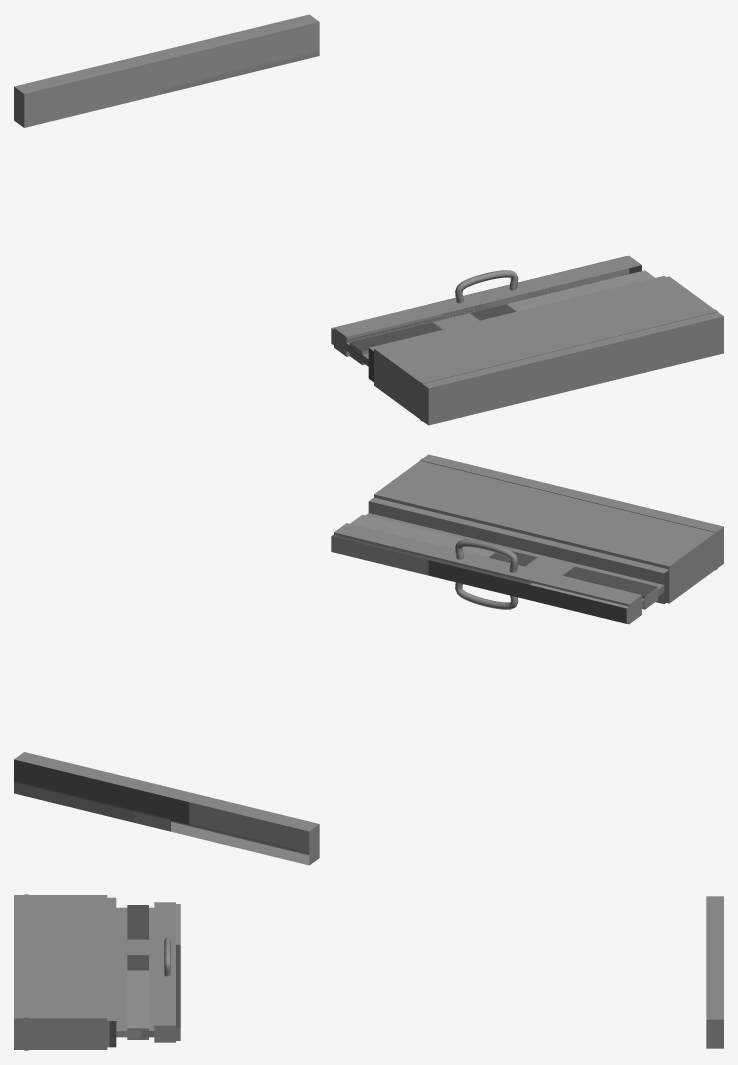
3 views of the same model, one above another, from view 1: azimuth 30°, elevation 25°; view 2: azimuth 150°, elevation 25°; view 3: azimuth 270°, elevation 25° (orthographic). The views are drawn at different scales.
Bounding box in the file's own units: 1 × 0.2031 × 2.43.
